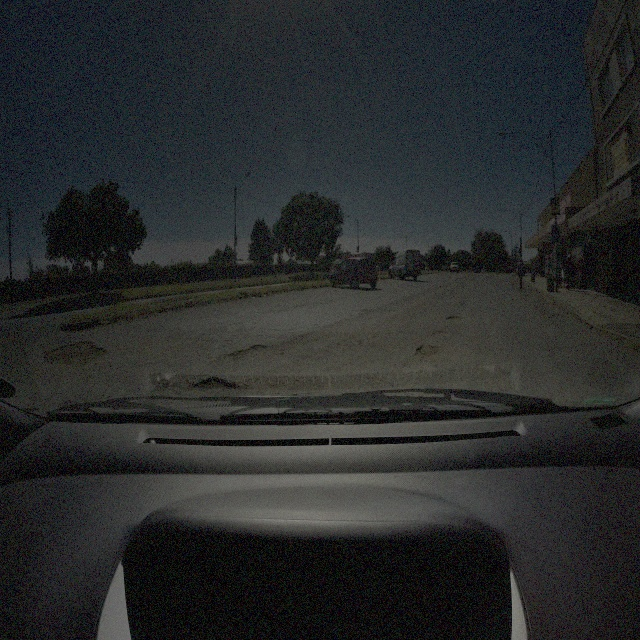pothole: (42, 335, 110, 369), (192, 371, 239, 394), (232, 341, 268, 360), (416, 341, 440, 356), (447, 312, 460, 320), (434, 327, 444, 335)
